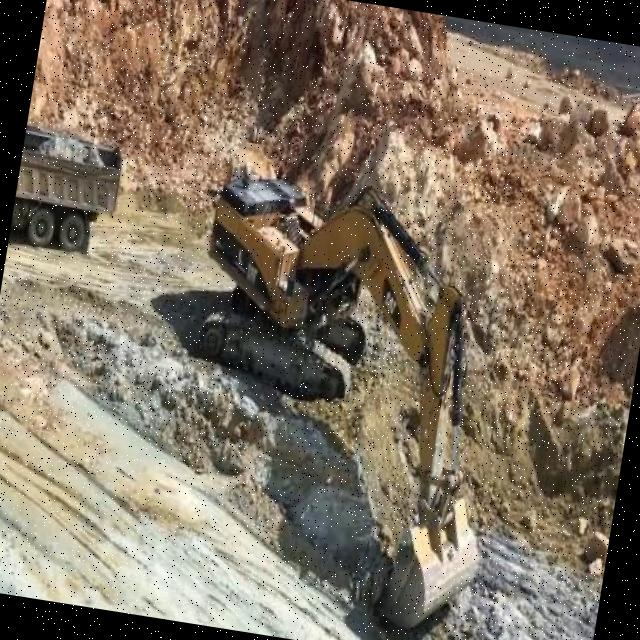Dump Truck: (8, 118, 129, 262)
Excavator: (151, 139, 542, 640)
